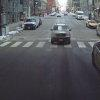Crosswalk: (7, 31, 95, 63)
